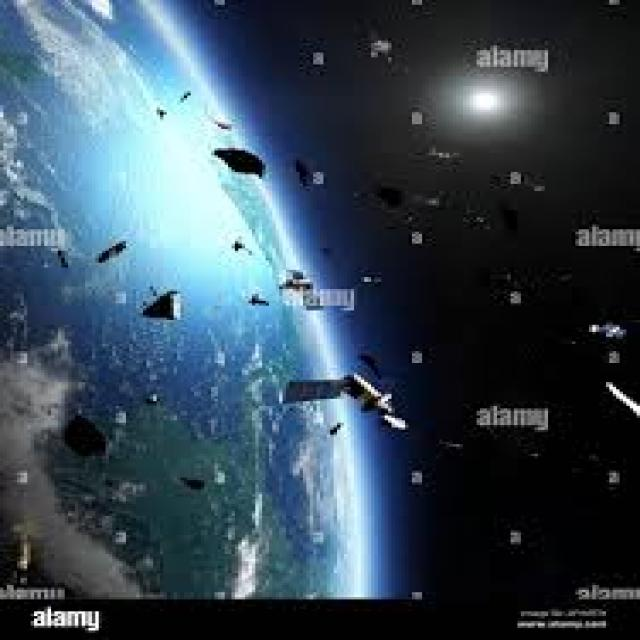large_debris: (0, 435, 160, 640), (258, 364, 438, 451), (424, 108, 563, 208), (33, 218, 138, 286), (188, 134, 298, 195), (581, 287, 640, 373), (135, 280, 203, 338), (265, 262, 332, 315), (388, 217, 456, 263), (577, 448, 630, 505), (344, 26, 408, 73), (169, 466, 226, 501), (486, 273, 528, 319), (146, 86, 208, 115), (401, 468, 435, 513), (505, 520, 550, 550)
